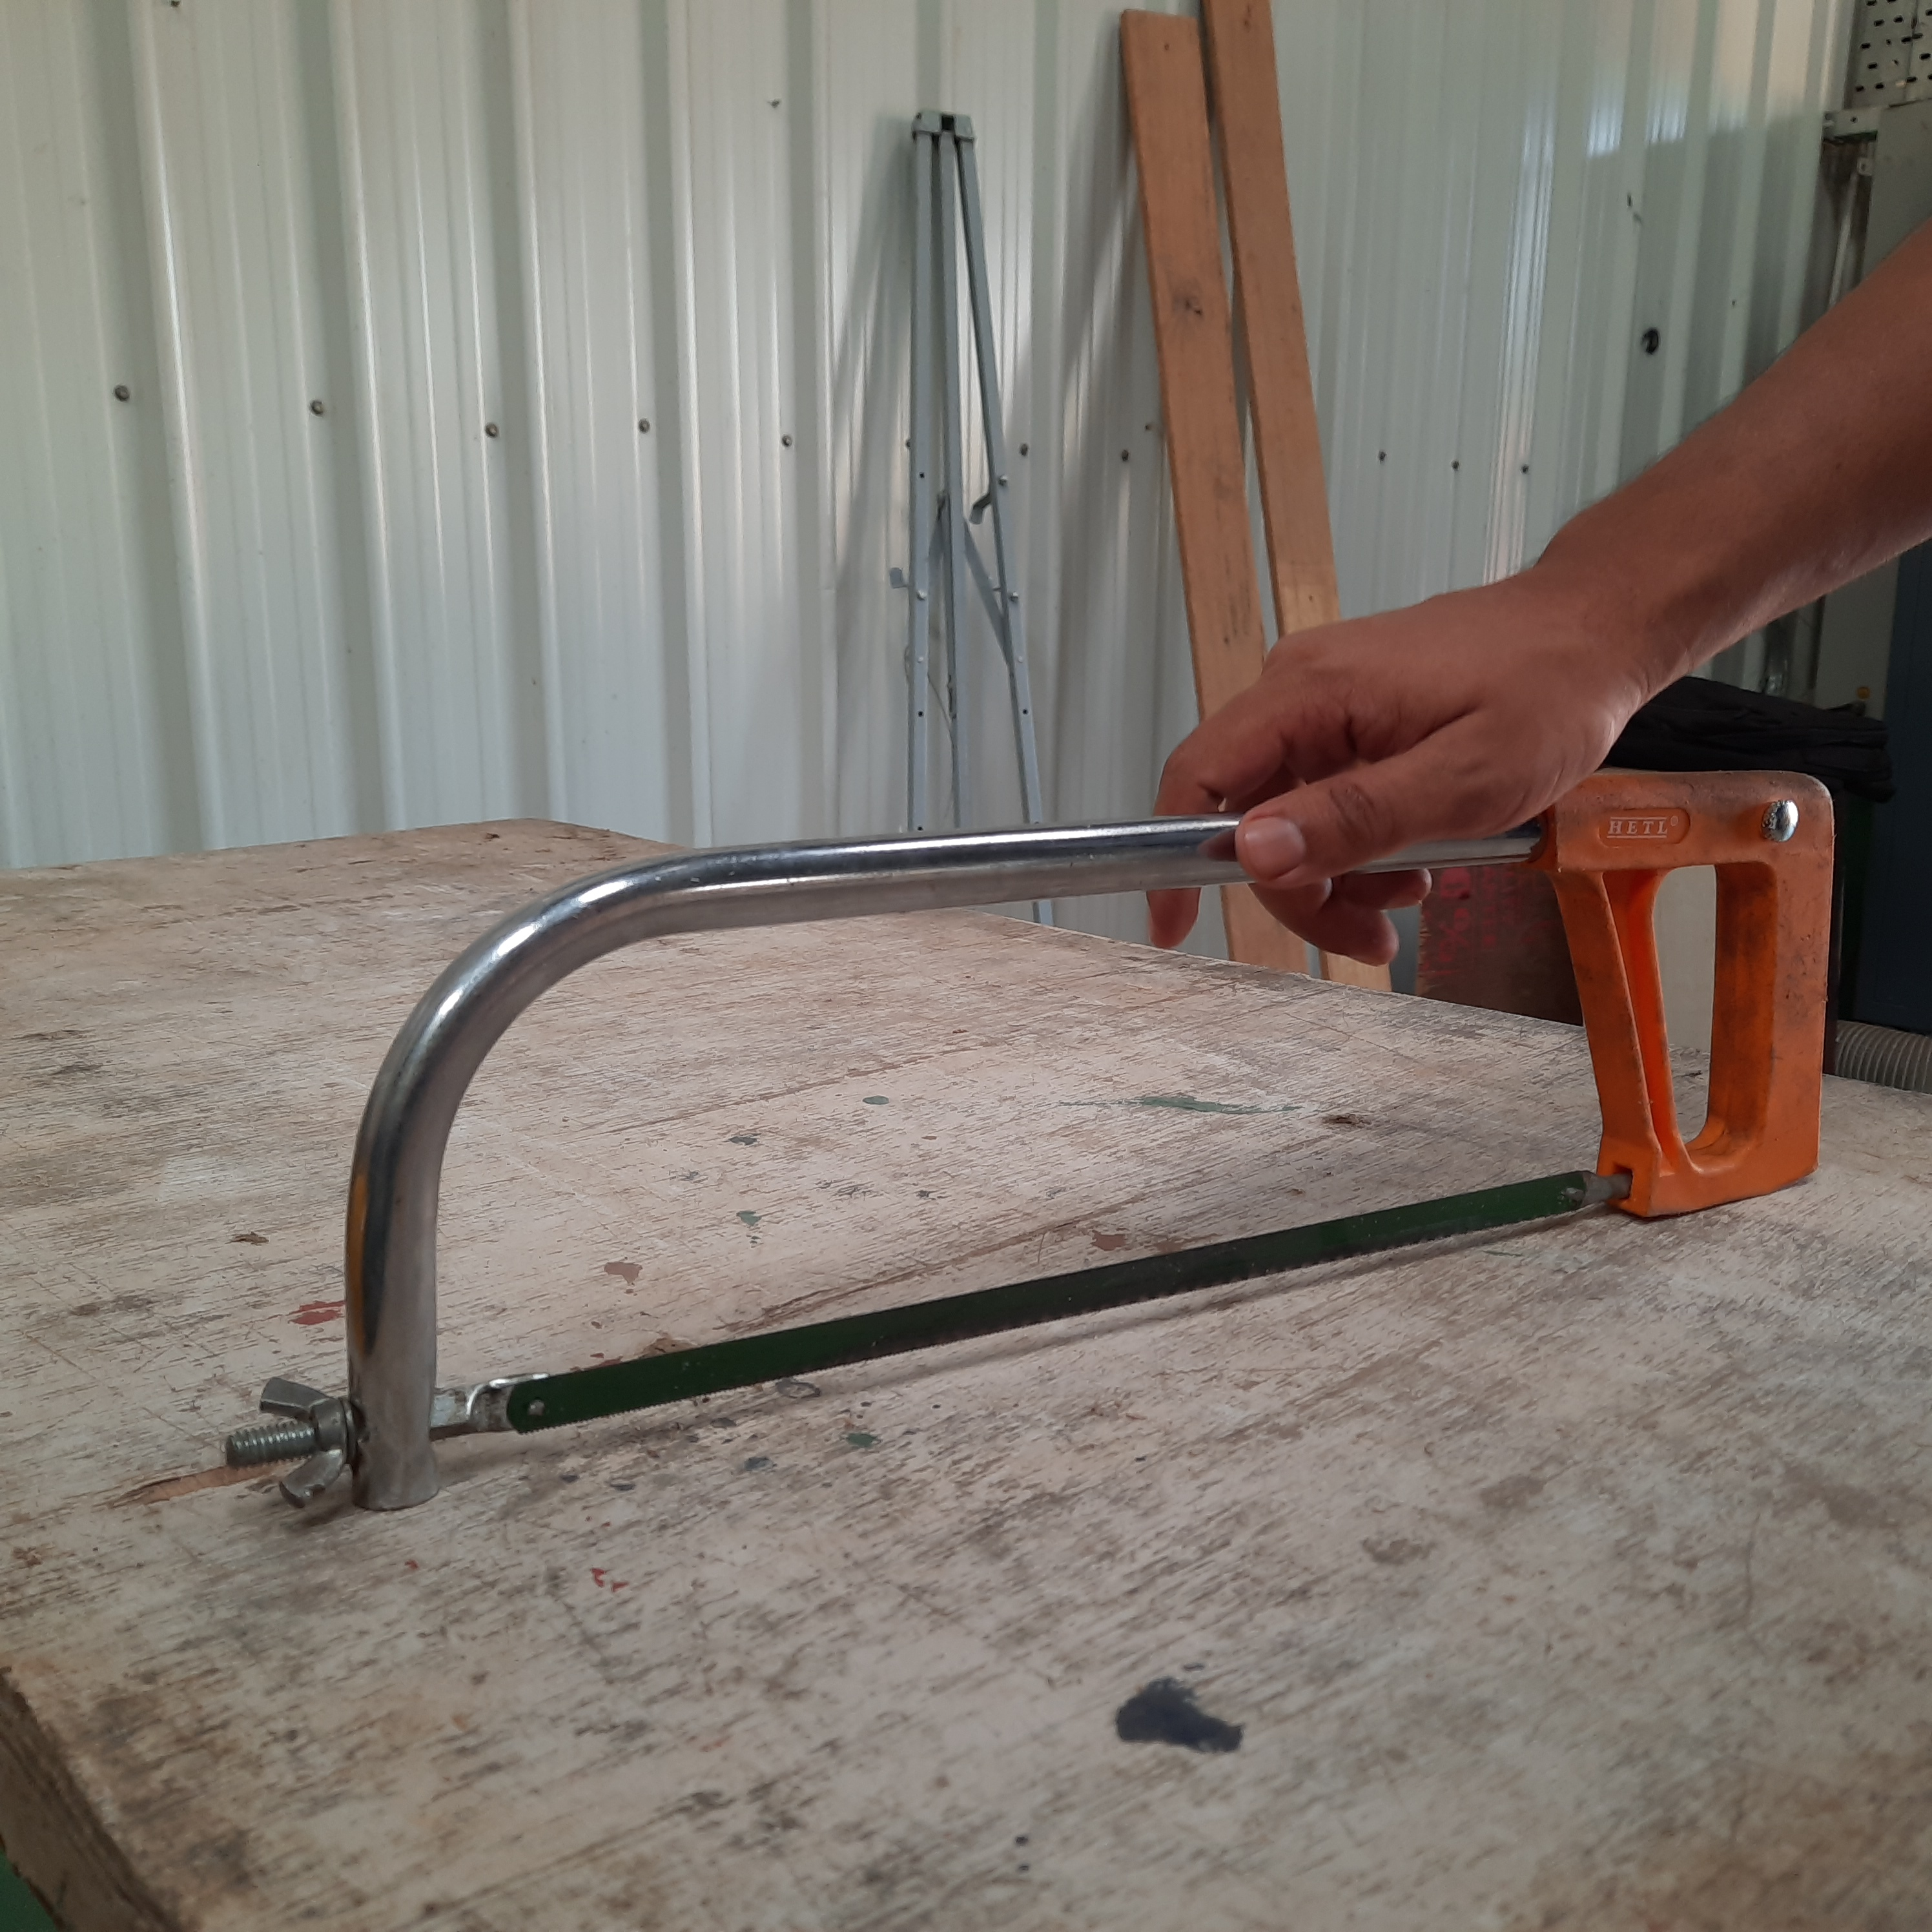Hexaframe: (221, 775, 1842, 1525)
